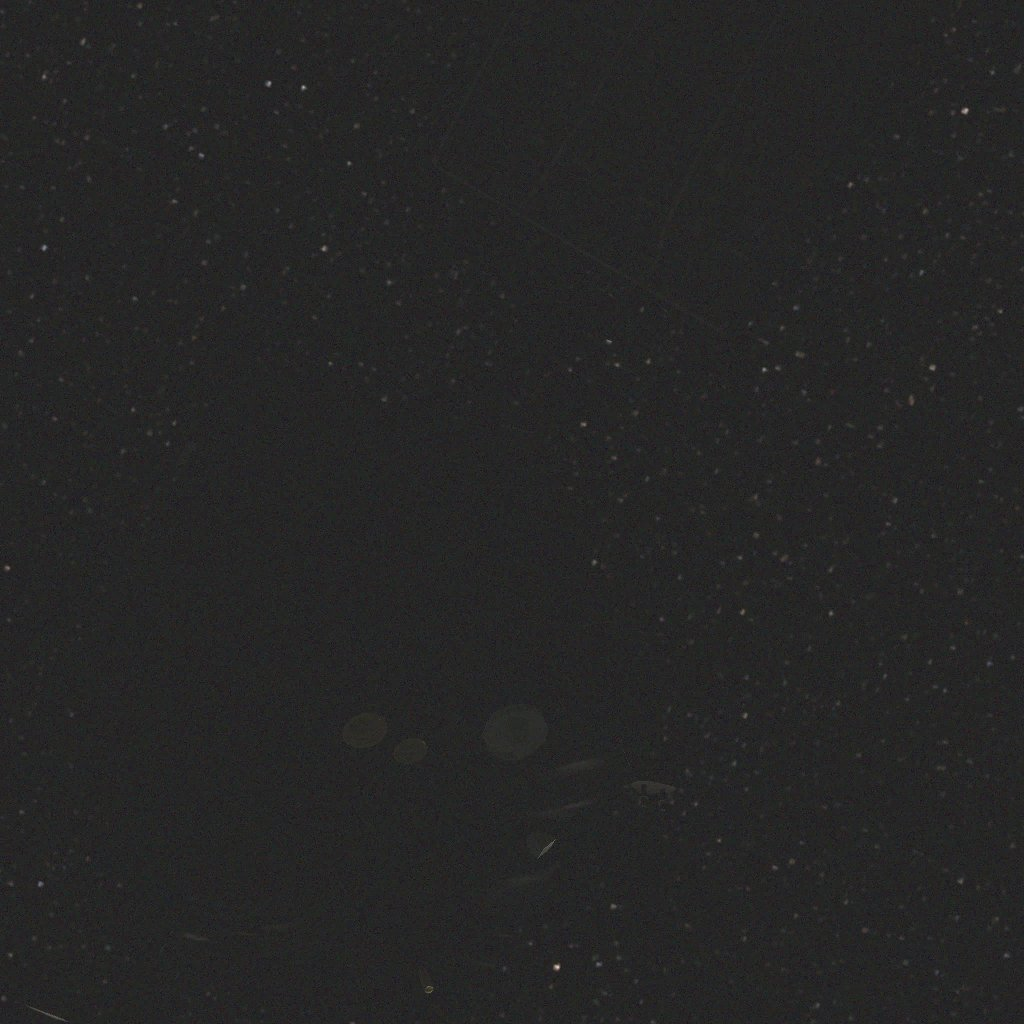smart_1: (0, 0, 941, 1024)
